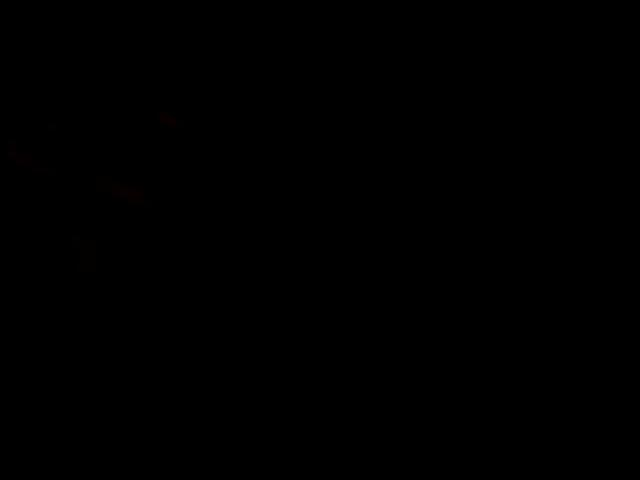iha: (291, 459, 325, 475)
